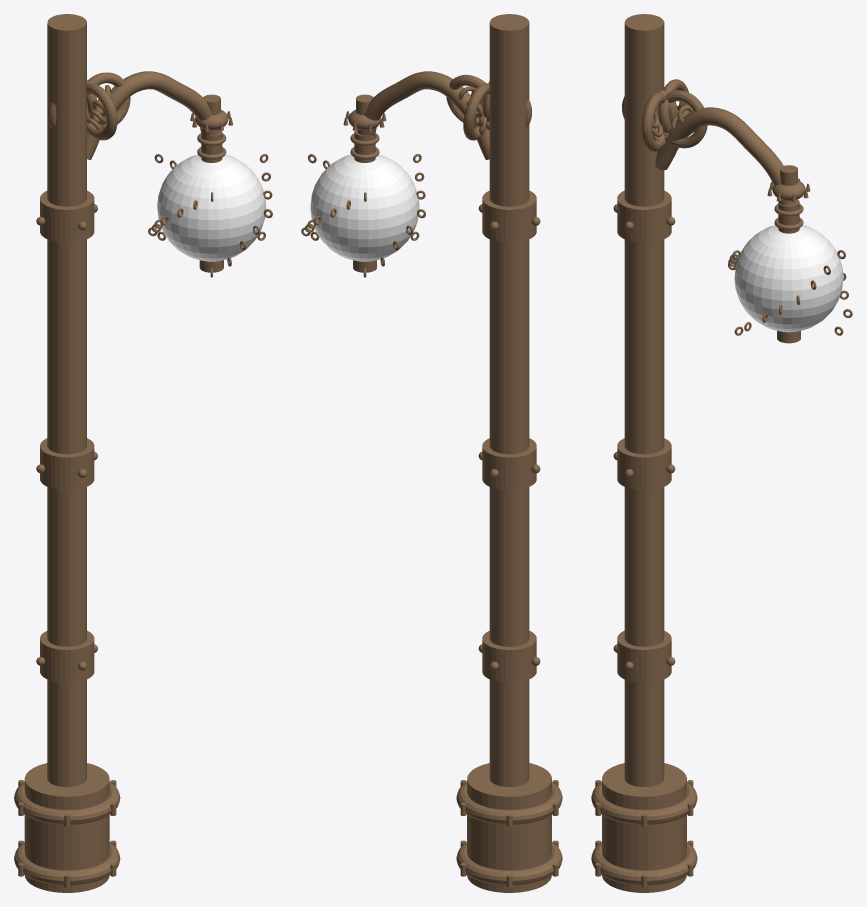
The picture shows the model from 3 angles, left to right: view 1: azimuth 30°, elevation 25°; view 2: azimuth 150°, elevation 25°; view 3: azimuth 330°, elevation 25°; orthographic projection.
Parts seen in each view (by area): view 1: FlutedPole, GlassGlobe, Base, VictorianArm, Cylinder.013, Cylinder.014, Cylinder.012, Torus.001, Torus, Torus.014, Torus.002; view 2: FlutedPole, GlassGlobe, Base, VictorianArm, Cylinder.013, Cylinder.014, Cylinder.012, Torus.001, Torus, Torus.006, Torus.002; view 3: FlutedPole, GlassGlobe, Base, VictorianArm, Cylinder.013, Cylinder.014, Cylinder.012, Torus.001, Torus, Torus.002, Torus.014, Torus.006.
Boxes of the visible parts, box(x1,y1,x2,y2) form: FlutedPole: box(47, 14, 86, 786); GlassGlobe: box(157, 154, 266, 261); Base: box(24, 763, 109, 892); VictorianArm: box(87, 71, 219, 159); Cylinder.013: box(40, 438, 94, 490); Cylinder.014: box(40, 190, 94, 242); Cylinder.012: box(40, 630, 94, 682); Torus.001: box(14, 782, 120, 824); Torus: box(14, 842, 120, 885); Torus.014: box(86, 83, 117, 140); Torus.002: box(87, 72, 130, 129); FlutedPole: box(489, 14, 529, 786); GlassGlobe: box(310, 154, 419, 261); Base: box(467, 763, 551, 892); VictorianArm: box(357, 71, 489, 159); Cylinder.013: box(482, 438, 536, 490); Cylinder.014: box(482, 190, 536, 242); Cylinder.012: box(482, 631, 536, 682); Torus.001: box(456, 782, 562, 824); Torus: box(456, 842, 562, 885); Torus.006: box(463, 83, 489, 140); Torus.002: box(446, 74, 487, 122); FlutedPole: box(624, 14, 664, 786); GlassGlobe: box(734, 225, 843, 332); Base: box(602, 763, 686, 892); VictorianArm: box(655, 107, 796, 205); Cylinder.013: box(617, 438, 671, 490); Cylinder.014: box(617, 190, 671, 242); Cylinder.012: box(617, 630, 671, 682); Torus.001: box(591, 782, 697, 824); Torus: box(591, 842, 697, 885); Torus.002: box(658, 90, 707, 148); Torus.014: box(641, 92, 666, 151); Torus.006: box(658, 79, 689, 132).
Size of the model in its own units: 0.9509 by 3.1 by 0.4112.
